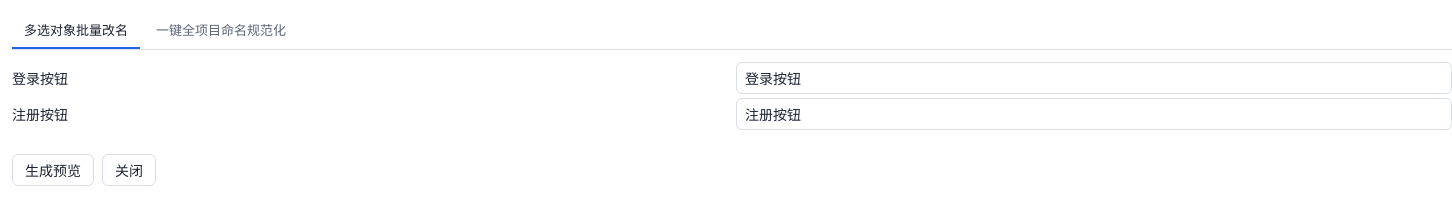
BatchRenameDialog › 规范化模式：plan.normalize 为 true
Step 1. Click the tab "一键全项目命名规范化" → (221, 30), box top-left (144, 12), bottom-right (298, 49)
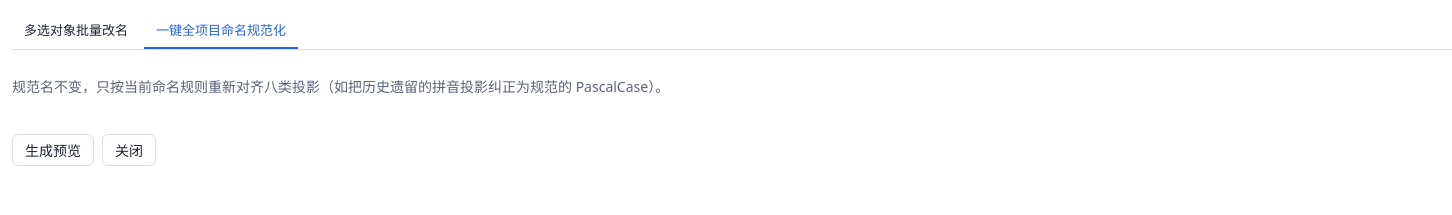
Step 2. Click the button with test id "batch-plan" → (53, 150), box top-left (12, 134), bottom-right (94, 166)
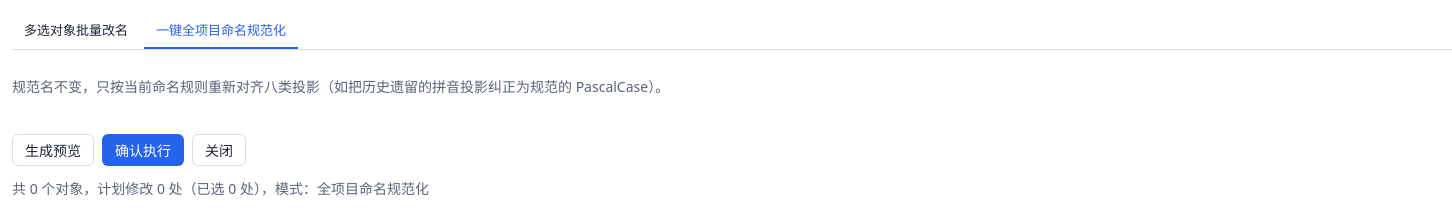
expect the text "共 0 个对象，计划修改 0 处（已选 0 处），模式：全项目命名规范化" is shown: met, box top-left (12, 179), bottom-right (429, 198)
